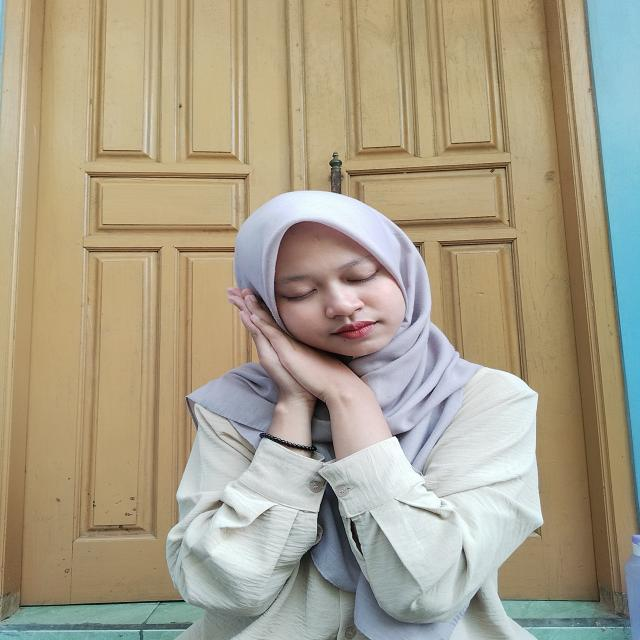tidur: (207, 282, 406, 468)
